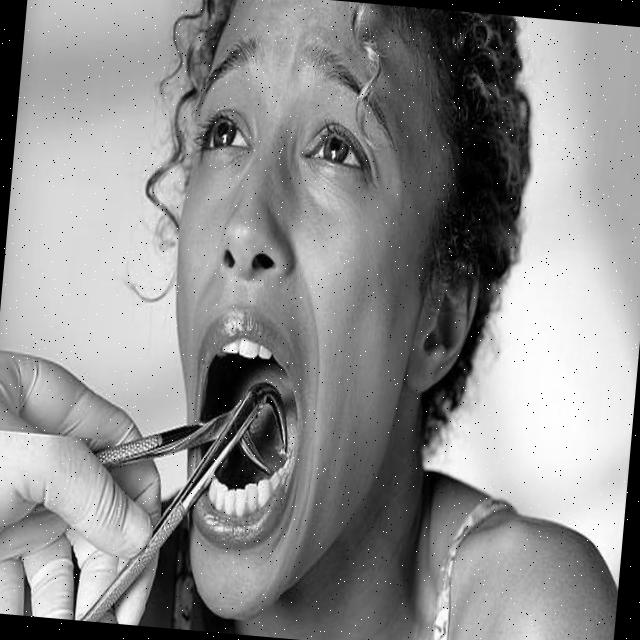Fear: (146, 0, 439, 632)
